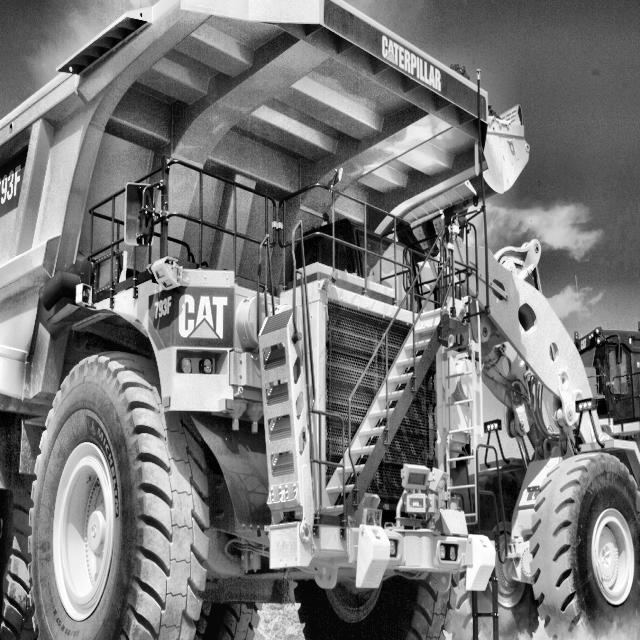buldozerpayloadergrader: (477, 182, 640, 640)
dump_truck: (0, 0, 493, 640)
